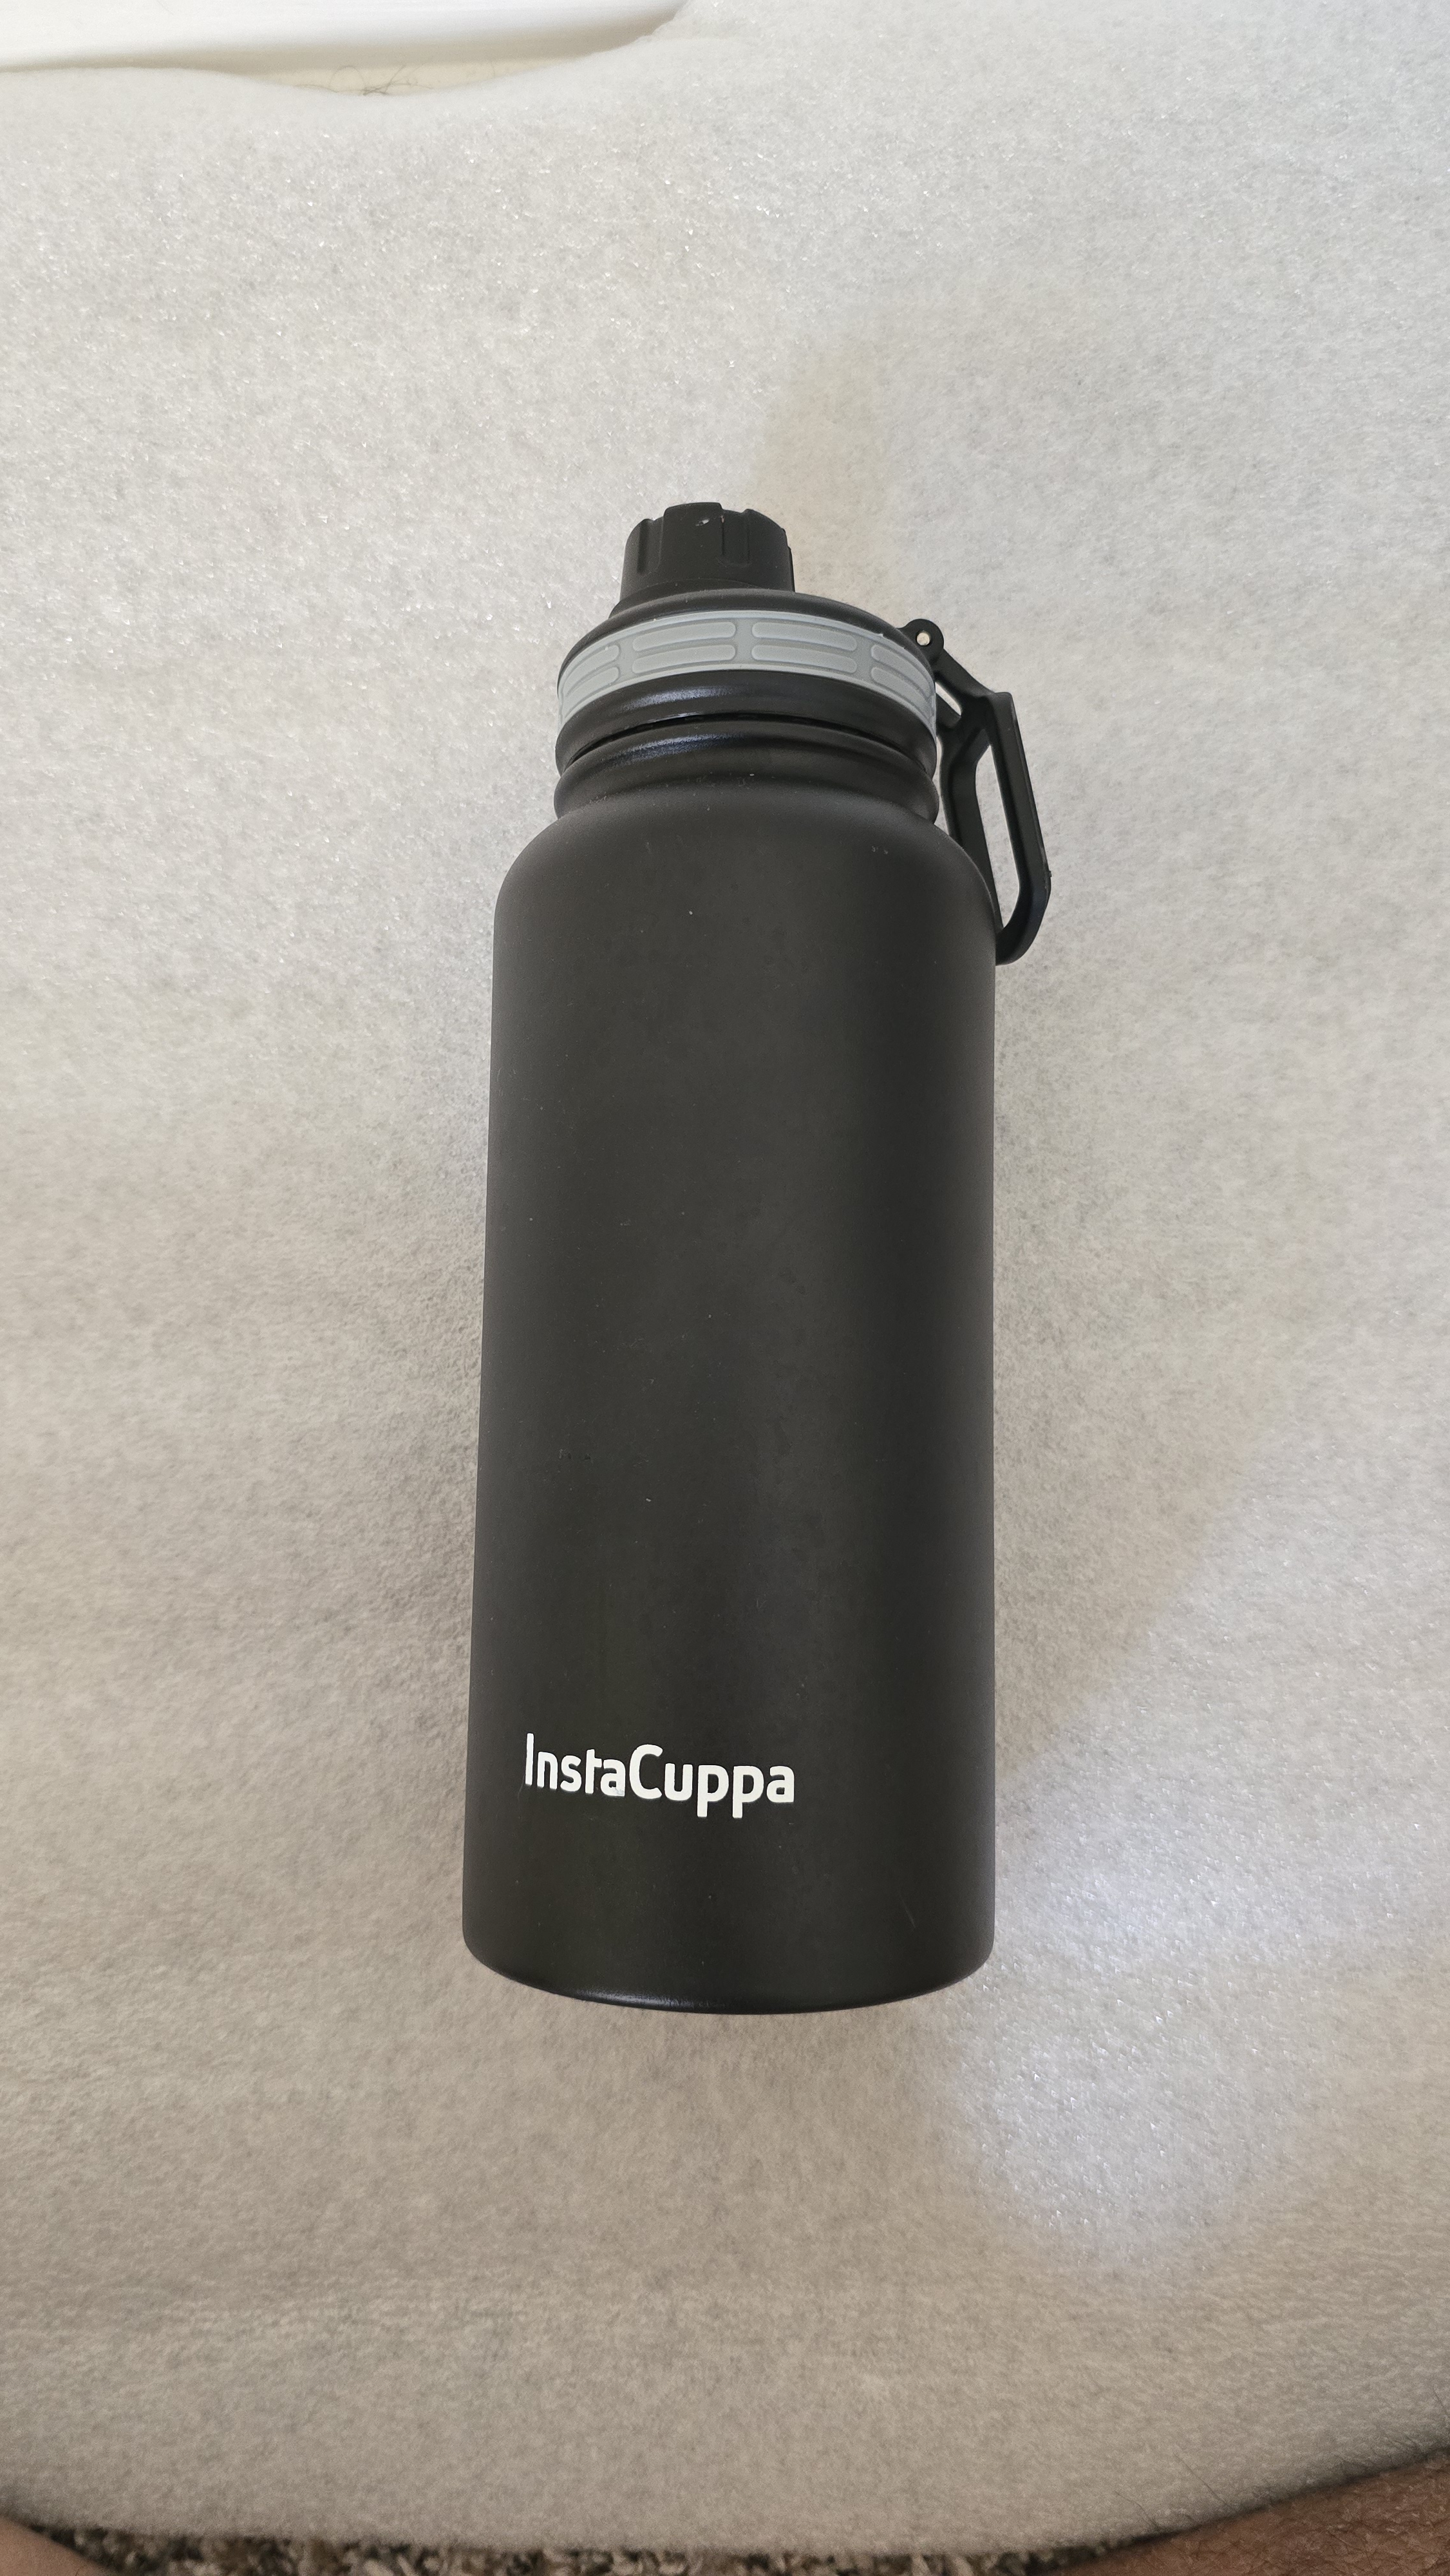bottle: (420, 429, 1144, 2087)
